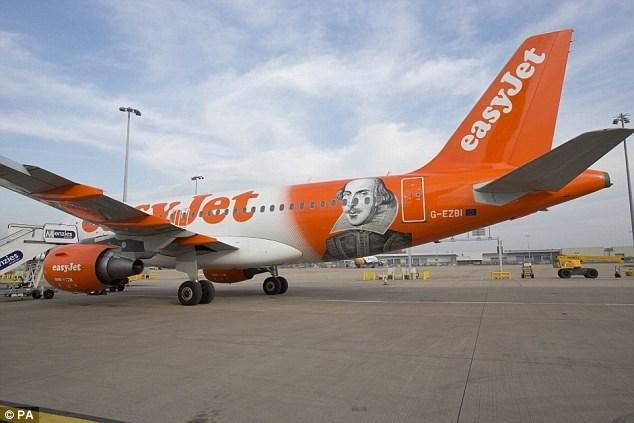airplane: (1, 29, 634, 306)
